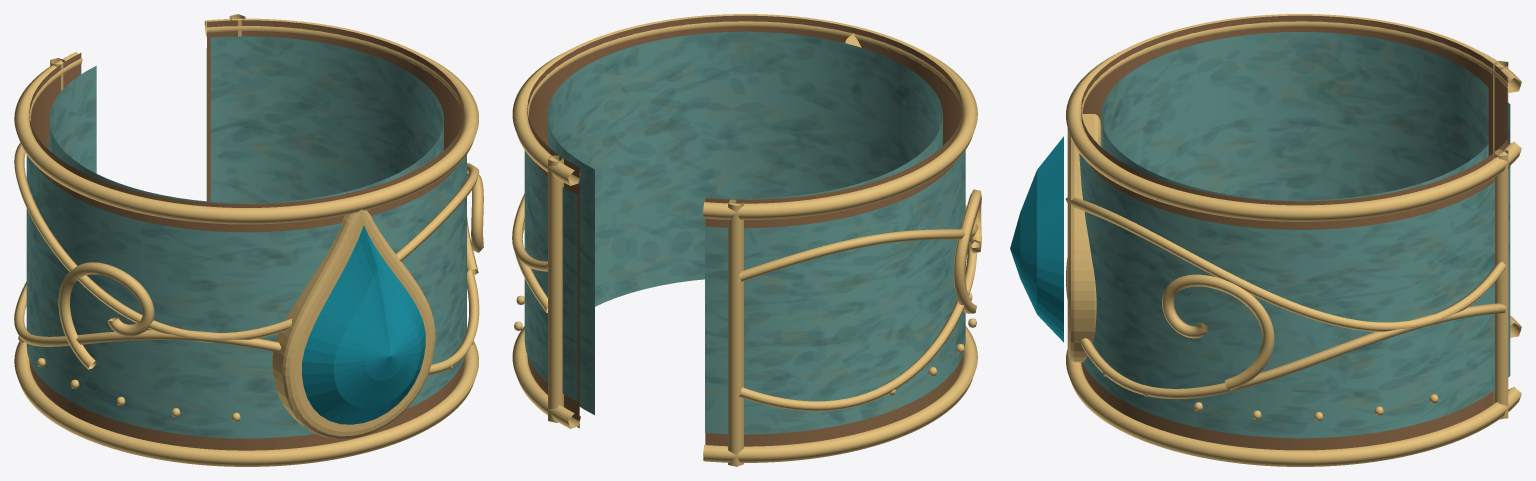
File: water-bracelet-v01.glb
3 views of the same model, side by side, from view 1: azimuth 30°, elevation 25°; view 2: azimuth 150°, elevation 25°; view 3: azimuth 270°, elevation 25° (orthographic).
Visible parts, largest first — view 1: Bracelet detail 3, raised-wave-and-gem-setting, Bracelet detail 2, Bracelet detail 1, Bracelet detail 4; view 2: Bracelet detail 2, Bracelet detail 3, raised-wave-and-gem-setting, Bracelet detail 1; view 3: Bracelet detail 3, Bracelet detail 2, raised-wave-and-gem-setting, Bracelet detail 1, Bracelet detail 4.
Boxes of the visible parts, box(x1,y1,x2,y2) form: Bracelet detail 3: box(26, 48, 466, 438); raised-wave-and-gem-setting: box(14, 14, 483, 466); Bracelet detail 2: box(49, 36, 443, 203); Bracelet detail 1: box(29, 20, 464, 450); Bracelet detail 4: box(302, 225, 425, 424); Bracelet detail 2: box(547, 31, 942, 414); Bracelet detail 3: box(524, 150, 965, 434); raised-wave-and-gem-setting: box(512, 14, 981, 466); Bracelet detail 1: box(527, 15, 962, 446); Bracelet detail 3: box(1079, 102, 1510, 438); Bracelet detail 2: box(1101, 32, 1488, 201); raised-wave-and-gem-setting: box(1065, 14, 1521, 466); Bracelet detail 1: box(1081, 15, 1507, 450); Bracelet detail 4: box(1010, 136, 1063, 342).
Bounding box in the file's own units: 0.1402 × 0.086 × 0.1515.
5 materials, 2 textured.
